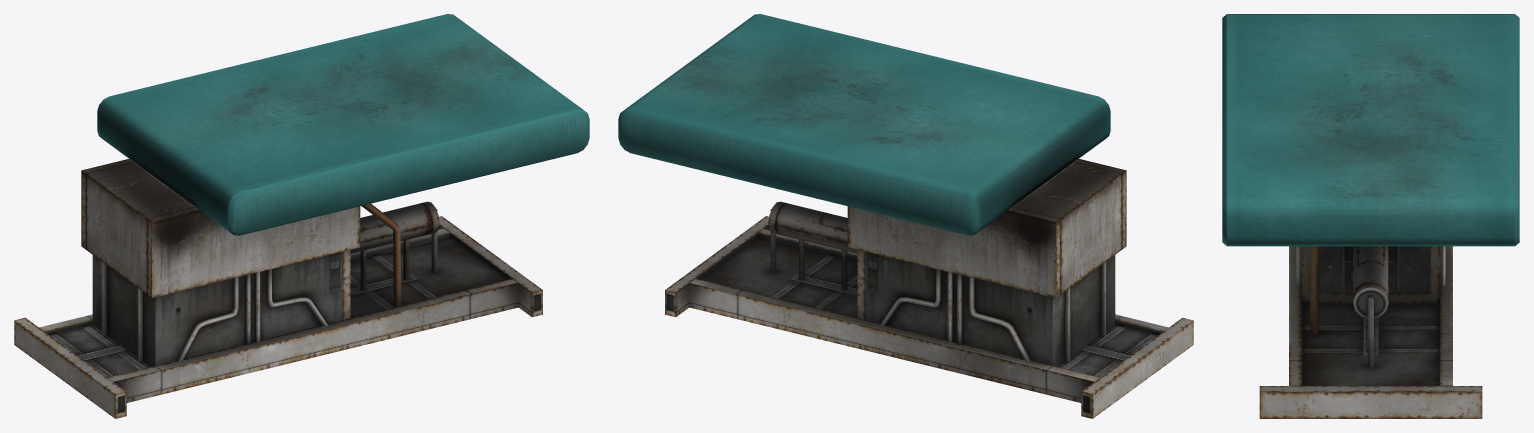
File: table_medical_theta_base.dae
3 views of the same model, side by side, from view 1: azimuth 30°, elevation 25°; view 2: azimuth 150°, elevation 25°; view 3: azimuth 270°, elevation 25° (orthographic). The views are drawn at different scales.
Visible parts, largest first — view 1: base; view 2: base; view 3: base.
Part boxes in pixels (x1=…): base: x1=14, y1=14, x2=589, y2=418; base: x1=618, y1=14, x2=1193, y2=418; base: x1=1222, y1=14, x2=1519, y2=418.
Size of the model in its own units: 200 by 87.86 by 102.
